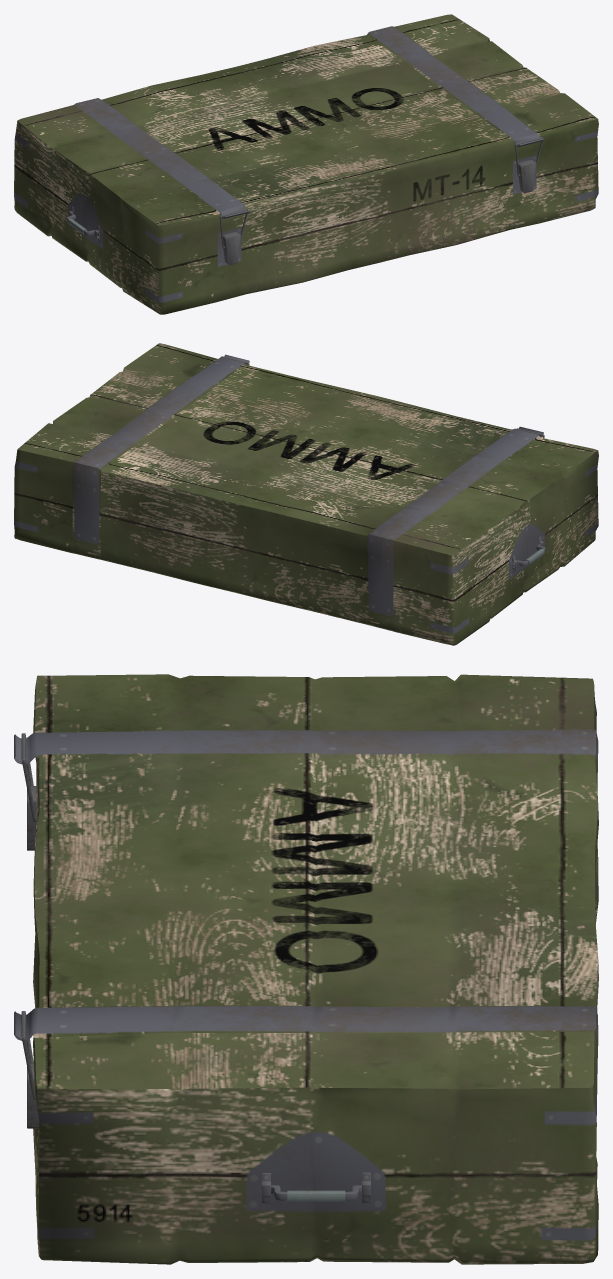
File: ammo_crate.glb
The picture shows the model from 3 angles, top to bottom: view 1: azimuth 30°, elevation 25°; view 2: azimuth 150°, elevation 25°; view 3: azimuth 270°, elevation 25°; orthographic projection. The views are drawn at different scales.
Parts seen in each view (by area): view 1: AmmoCrate_low; view 2: AmmoCrate_low; view 3: AmmoCrate_low.
Part boxes in pixels (bbox=[...]): AmmoCrate_low: bbox=[14, 14, 598, 314]; AmmoCrate_low: bbox=[14, 343, 598, 645]; AmmoCrate_low: bbox=[14, 674, 598, 1264].
Bounding box in the file's own units: 90.49 × 17.44 × 51.52.
1 material, 1 textured.
